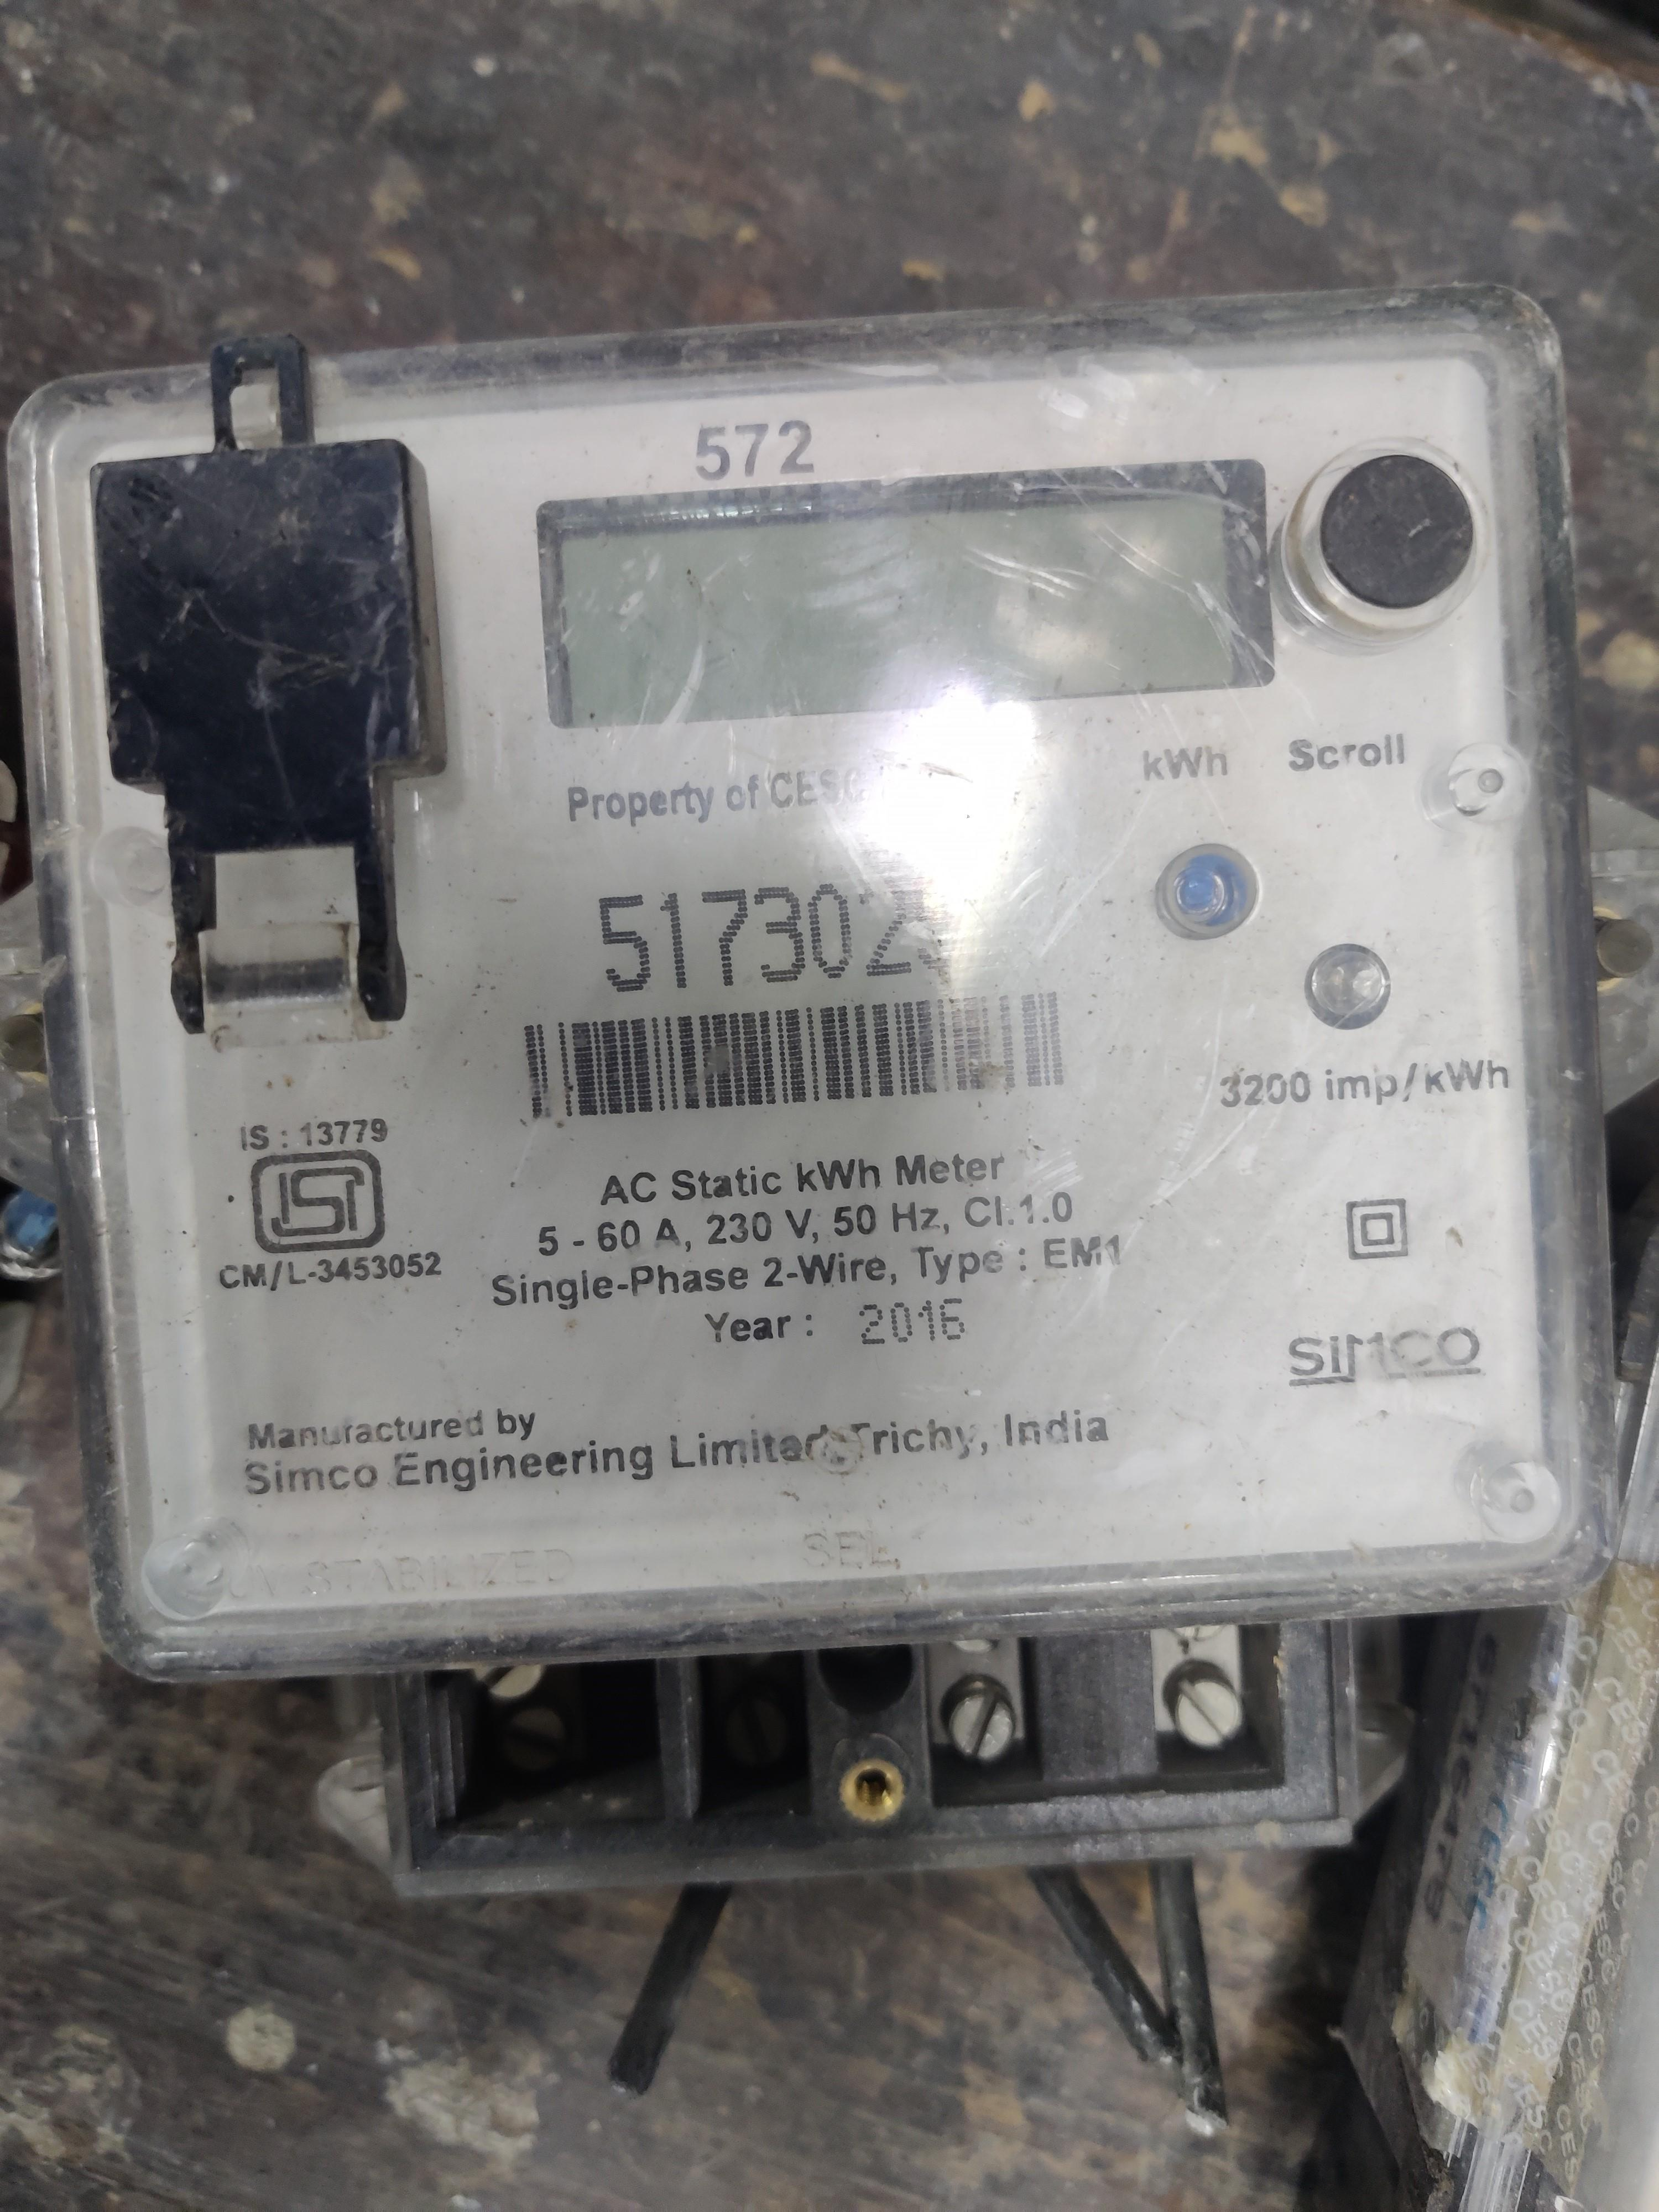meter_readings: (559, 536, 1246, 690)
serial_number: (540, 855, 1000, 996)
